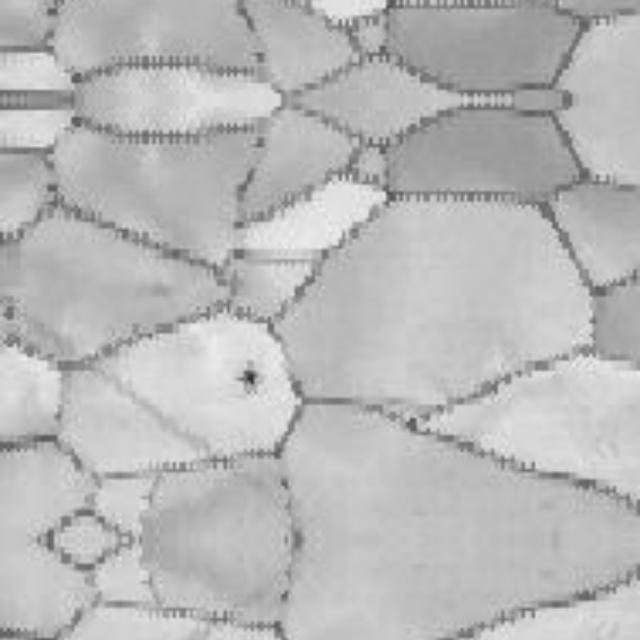good_void: (271, 472, 304, 541), (271, 541, 304, 610), (231, 367, 265, 400)
